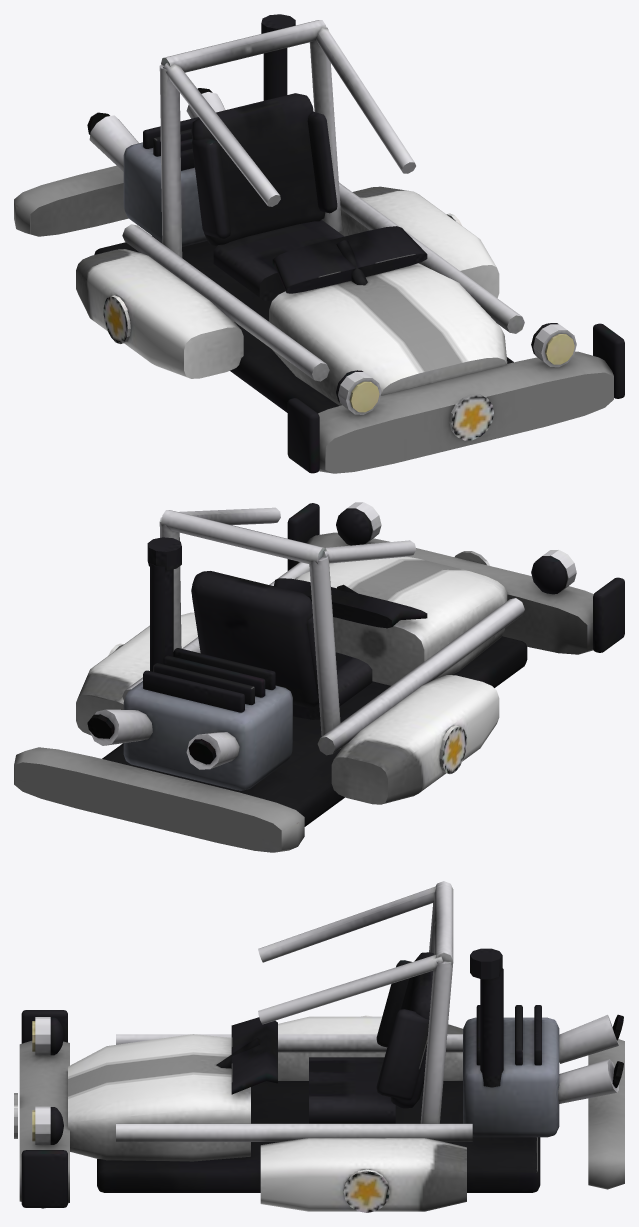
The model's file is body_buggy.glb.
3 renders of one model, top to bottom at view 1: azimuth 30°, elevation 25°; view 2: azimuth 150°, elevation 25°; view 3: azimuth 270°, elevation 25°, orthographic. The views are drawn at different scales.
Visible parts, largest first — view 1: Body; view 2: Body; view 3: Body.
Boxes of the visible parts, <box> form: Body: <box>14,14,624,473</box>; Body: <box>14,502,624,852</box>; Body: <box>14,881,624,1212</box>.
Size of the model in its own units: 1.91 by 1.33 by 3.17.
3 materials, 3 textured.
